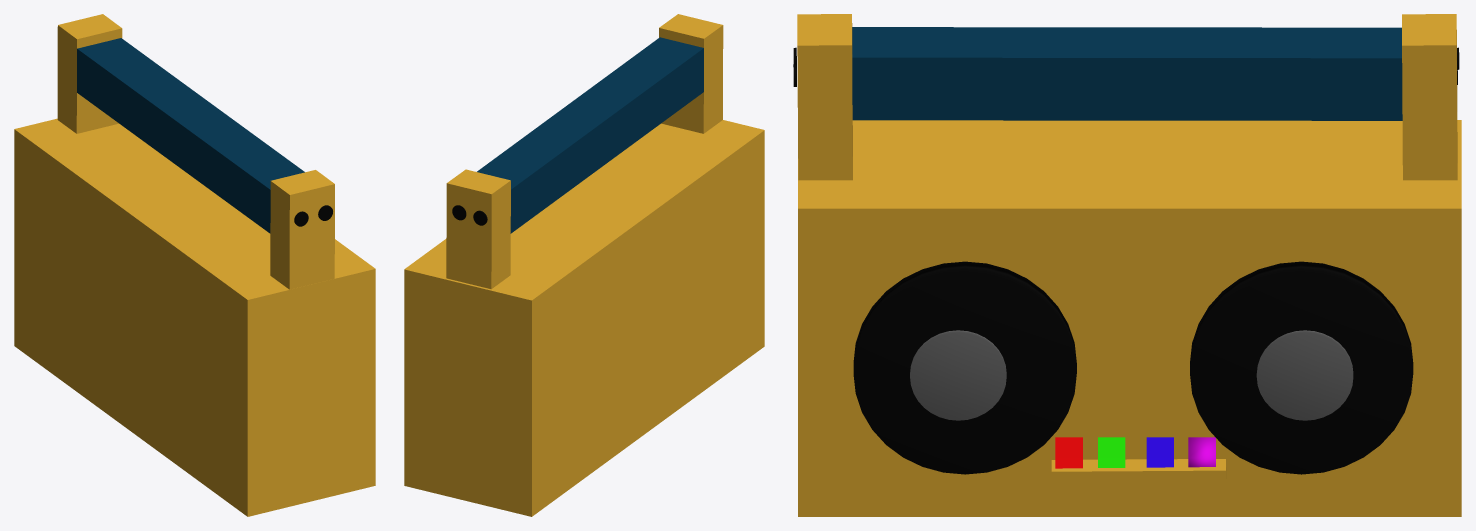
Rendered from boombox.fbx.
3 views of the same model, side by side, from view 1: azimuth 30°, elevation 25°; view 2: azimuth 150°, elevation 25°; view 3: azimuth 270°, elevation 25° (orthographic). The views are drawn at different scales.
Parts seen in each view (by area): view 1: Cube, Kostka, Cube.002, Cube.003; view 2: Cube, Kostka, Cube.003, Cube.002; view 3: Cube, Kostka, Walec, Walec.001, Cube.002, Cube.003, Walec.002, Walec.003, Cube.001, Kostka.001, Kostka.002, Kostka.003 (+1 smaller).
Boxes of the visible parts, x1,y1,x2,y2 form: Cube: (14, 118, 375, 516); Kostka: (77, 38, 304, 233); Cube.002: (270, 170, 334, 289); Cube.003: (57, 14, 122, 133); Cube: (404, 120, 764, 516); Kostka: (477, 37, 703, 233); Cube.003: (446, 169, 510, 289); Cube.002: (659, 14, 723, 133); Cube: (798, 120, 1461, 516); Kostka: (852, 27, 1402, 120); Walec: (853, 261, 1076, 474); Walec.001: (1190, 261, 1413, 474); Cube.002: (797, 14, 852, 180); Cube.003: (1402, 14, 1457, 180); Walec.002: (1256, 330, 1353, 420); Walec.003: (910, 330, 1006, 420); Cube.001: (1051, 459, 1226, 490); Kostka.001: (1055, 437, 1082, 468); Kostka.002: (1098, 437, 1125, 467); Kostka.003: (1146, 437, 1173, 467).
Size of the model in its own units: 145 by 292 by 399.
